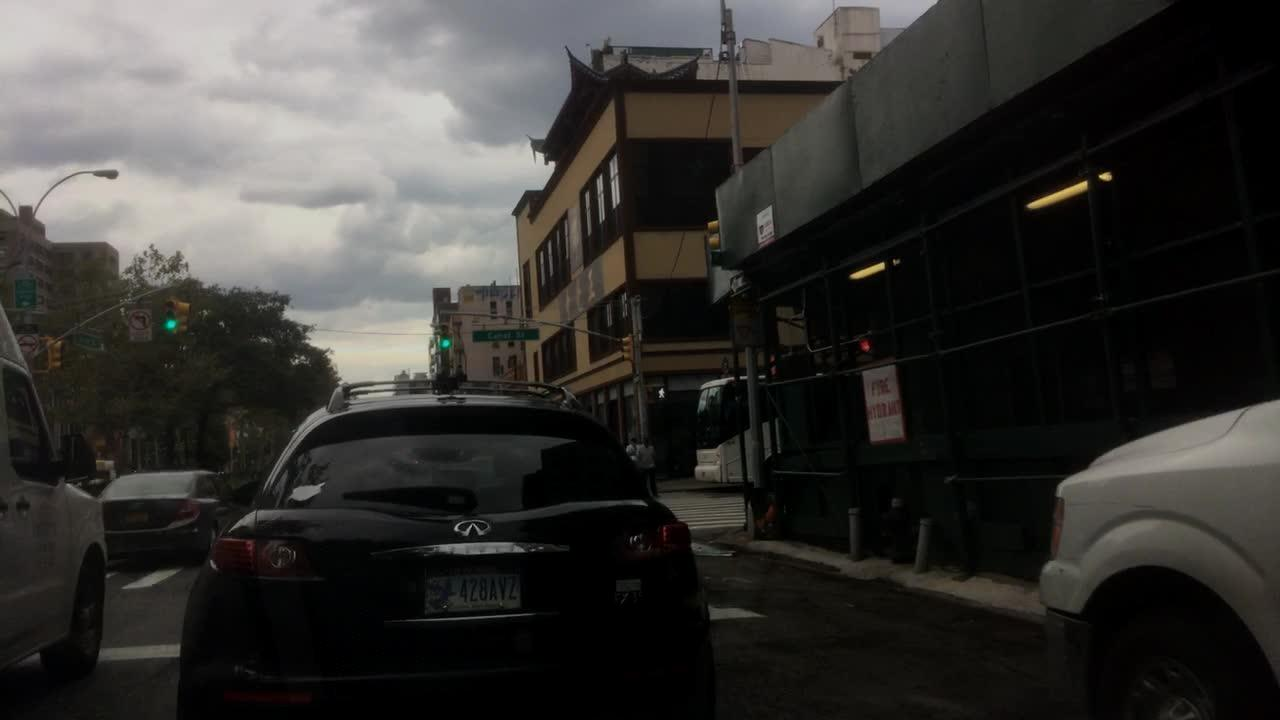Infiniti: (448, 512, 504, 541)
